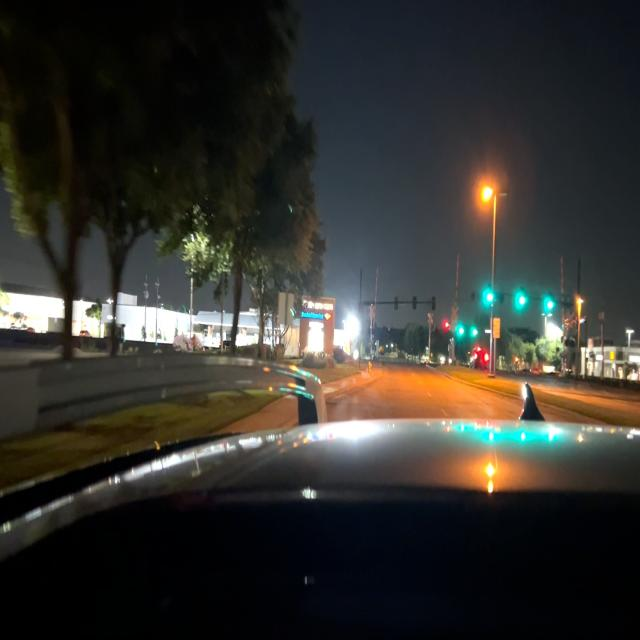back-of-sign: (280, 294, 295, 328)
